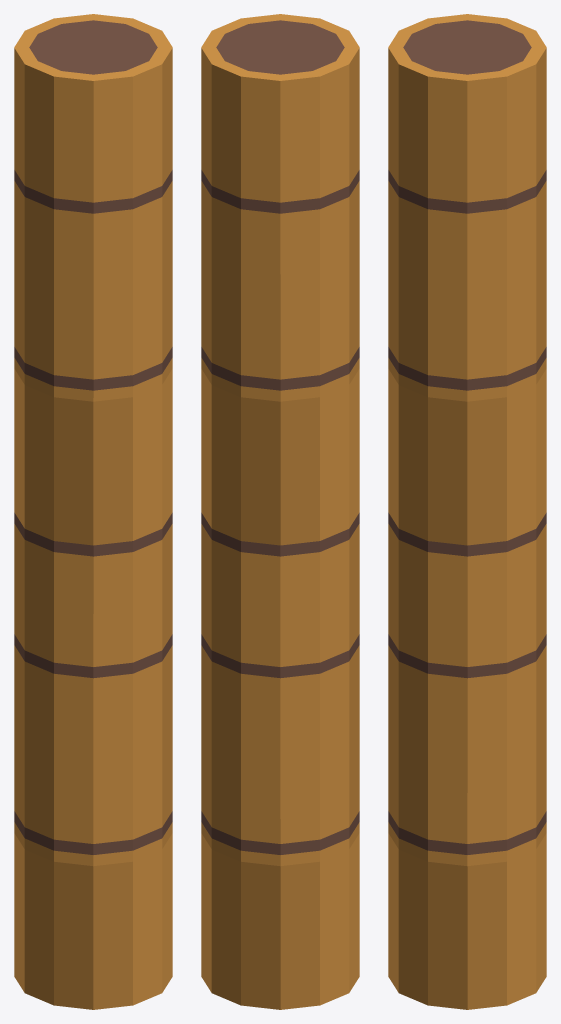
File: trashgroup1926466534.fbx
3 views of the same model, side by side, from view 1: azimuth 30°, elevation 25°; view 2: azimuth 150°, elevation 25°; view 3: azimuth 270°, elevation 25° (orthographic).
Parts seen in each view (by area): view 1: group1926466534; view 2: group1926466534; view 3: group1926466534.
Boxes of the visible parts, x1,y1,x2,y2 form: group1926466534: (14,14,172,1009); group1926466534: (201,14,359,1009); group1926466534: (388,14,546,1009).
Size of the model in its own units: 10.21 by 66 by 10.21.
